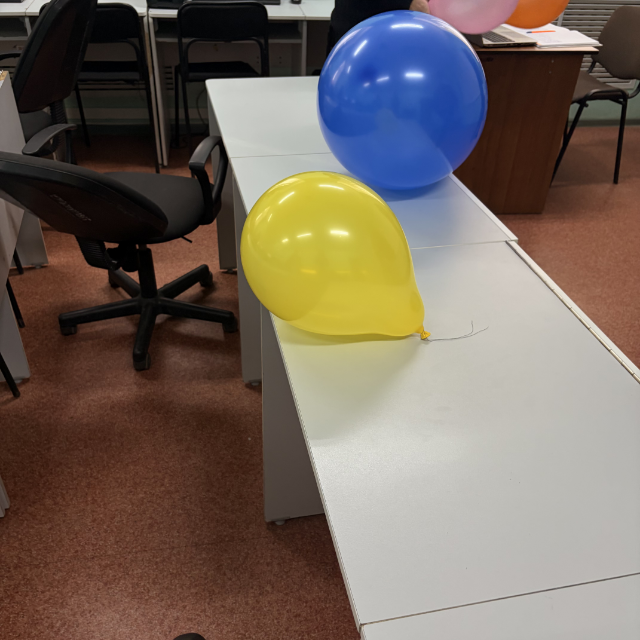balloon: (239, 170, 431, 340), (317, 9, 490, 190), (428, 2, 519, 34), (504, 0, 569, 29)
